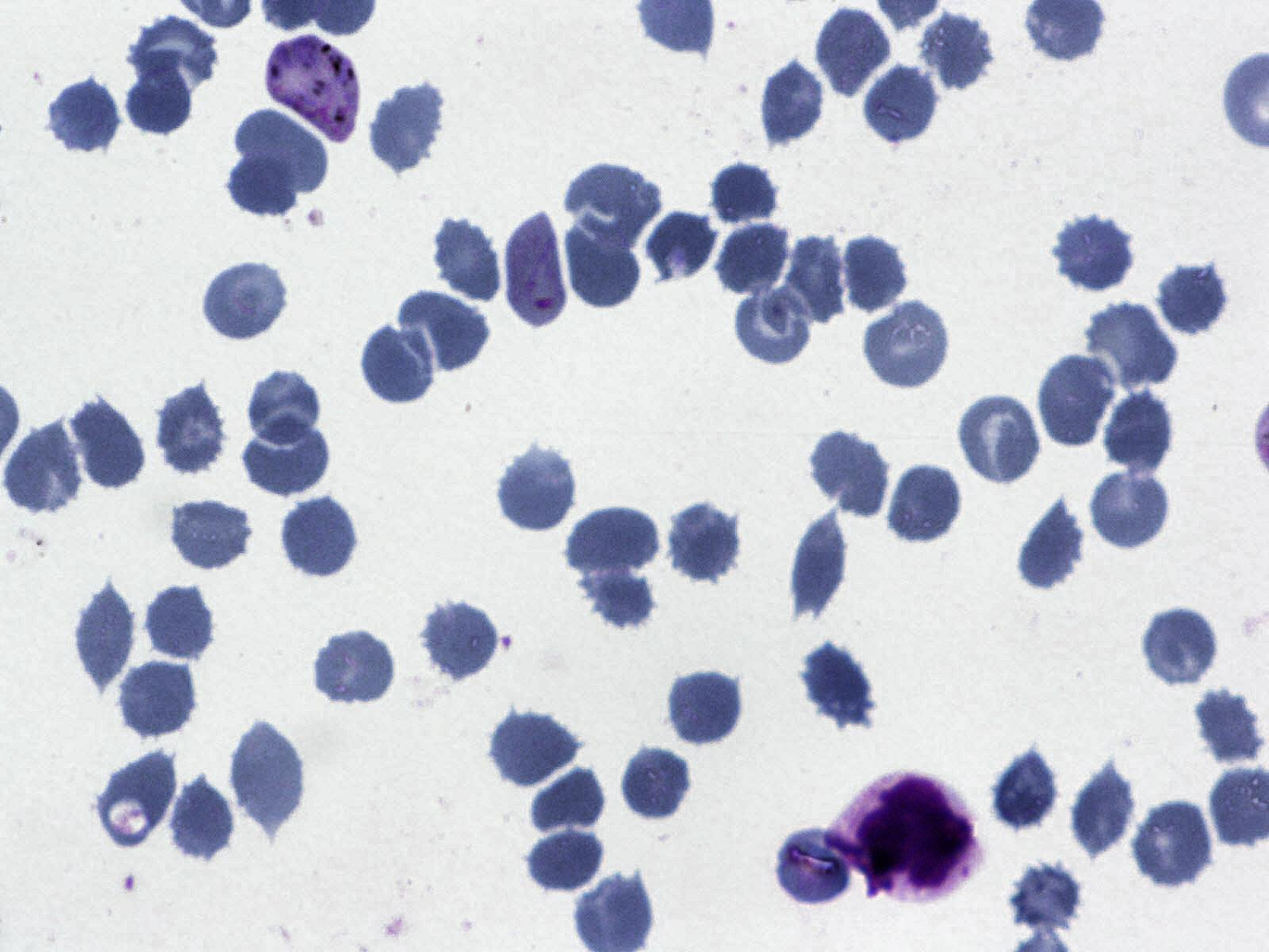Infected: (826, 771, 980, 897), (264, 33, 360, 142), (505, 204, 569, 333)
Uninfected: (563, 160, 665, 252), (228, 716, 309, 831), (1084, 300, 1179, 394), (958, 391, 1045, 488), (99, 747, 181, 849), (862, 299, 951, 392), (398, 287, 490, 376), (562, 217, 642, 318), (67, 394, 148, 493), (1039, 351, 1119, 451), (1087, 464, 1175, 554), (240, 413, 332, 498), (808, 429, 893, 521), (1132, 799, 1217, 890), (128, 13, 221, 96), (234, 109, 325, 193), (2, 422, 83, 516), (201, 259, 289, 344), (496, 443, 577, 535), (73, 577, 135, 697), (490, 710, 581, 791), (566, 505, 662, 581), (815, 10, 896, 100), (279, 493, 359, 581), (420, 597, 501, 683), (358, 321, 438, 408), (1018, 497, 1091, 592), (154, 385, 230, 476), (427, 215, 503, 306), (861, 62, 941, 148), (1071, 761, 1139, 862), (362, 88, 438, 178), (312, 625, 397, 705), (1105, 386, 1178, 479), (117, 656, 198, 739), (774, 827, 856, 908), (1053, 214, 1136, 294), (1142, 605, 1220, 690), (665, 498, 742, 584), (167, 496, 253, 572), (757, 54, 823, 152), (166, 774, 236, 866), (891, 462, 965, 547), (665, 666, 742, 747), (734, 286, 811, 367), (143, 580, 217, 664), (792, 505, 847, 618), (1187, 685, 1259, 770), (800, 639, 871, 725), (991, 749, 1064, 832), (44, 79, 121, 157), (839, 232, 908, 317), (247, 370, 322, 447), (1158, 260, 1231, 339), (784, 234, 848, 324), (521, 826, 607, 891), (1009, 862, 1085, 935), (622, 745, 693, 822), (922, 14, 991, 90), (581, 561, 654, 630), (125, 63, 193, 137), (531, 766, 606, 833), (716, 224, 785, 294), (225, 153, 300, 217), (647, 212, 715, 281), (712, 161, 783, 225)
